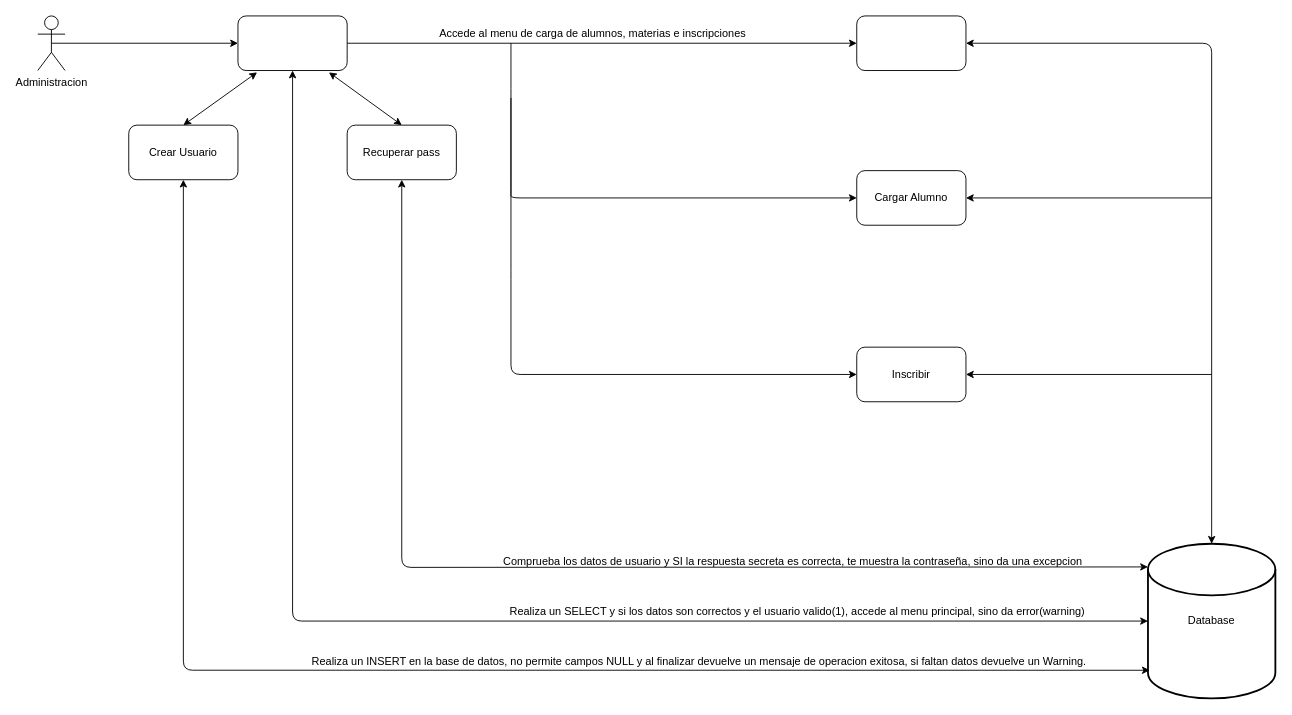
Image size: 1292x715. Some labels were removed from this diagram. Here are the shapes that lost their labels. From the top down, the centre of each, then its label:
[292,43]: Login(User/pass)
[911,43]: Cargar Materia
